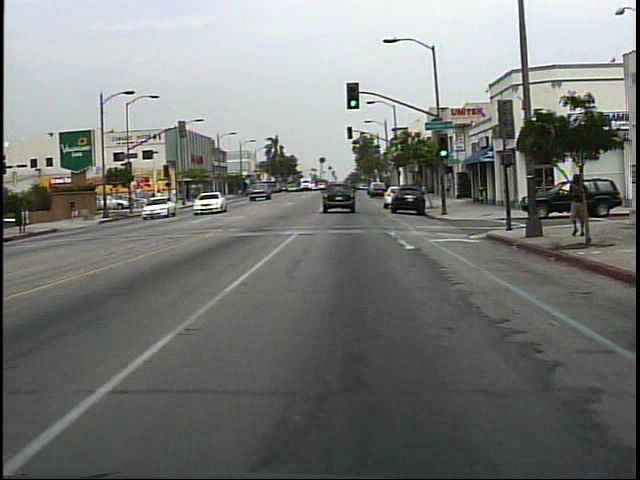person: (565, 168, 590, 244), (67, 193, 86, 221), (153, 185, 169, 209)
